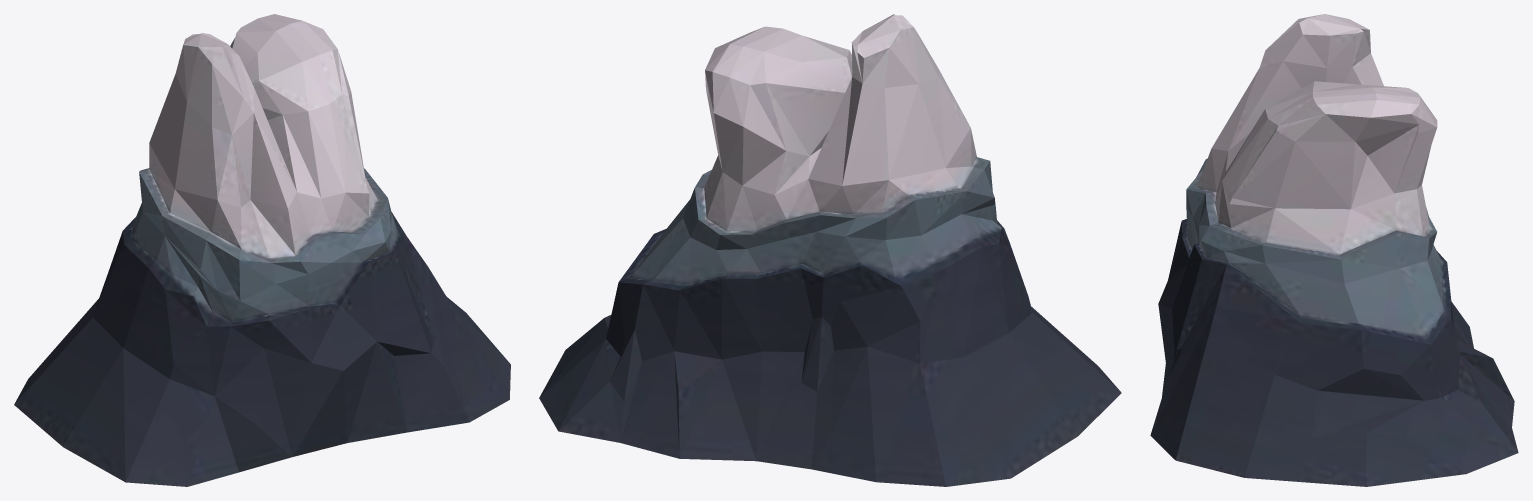
Rendered from mountain_tall_snow.glb.
The picture shows the model from 3 angles, left to right: view 1: azimuth 30°, elevation 25°; view 2: azimuth 150°, elevation 25°; view 3: azimuth 270°, elevation 25°; orthographic projection. The views are drawn at different scales.
Visible parts, largest first — view 1: mountain_tall_snow; view 2: mountain_tall_snow; view 3: mountain_tall_snow.
Part boxes in pixels (x1,y1,x2,y2): mountain_tall_snow: (14, 14, 510, 486); mountain_tall_snow: (539, 14, 1121, 486); mountain_tall_snow: (1150, 14, 1518, 486).
Bounding box in the file's own units: 93.06 × 71.87 × 70.43.
1 material, 1 textured.
